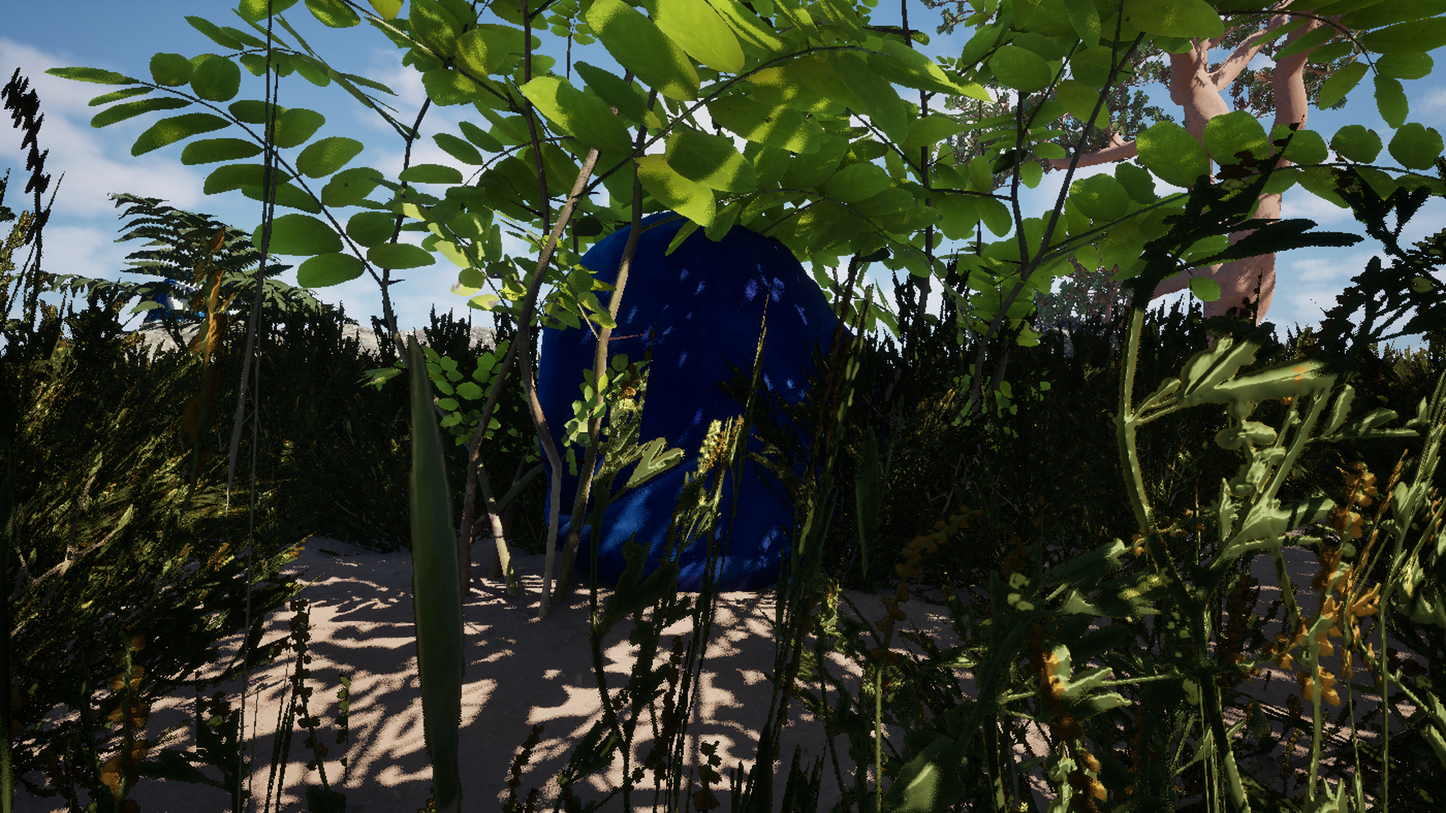Piplup: (383, 0, 1049, 813)
